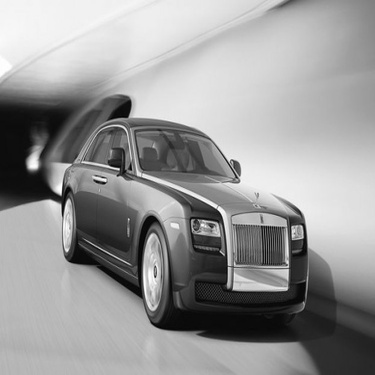car: (55, 114, 314, 332)
